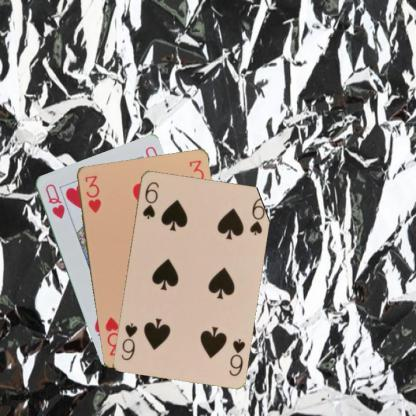3h: (82, 172, 102, 214)
6s: (140, 179, 160, 220), (226, 336, 246, 377)
Qh: (42, 181, 66, 220)
